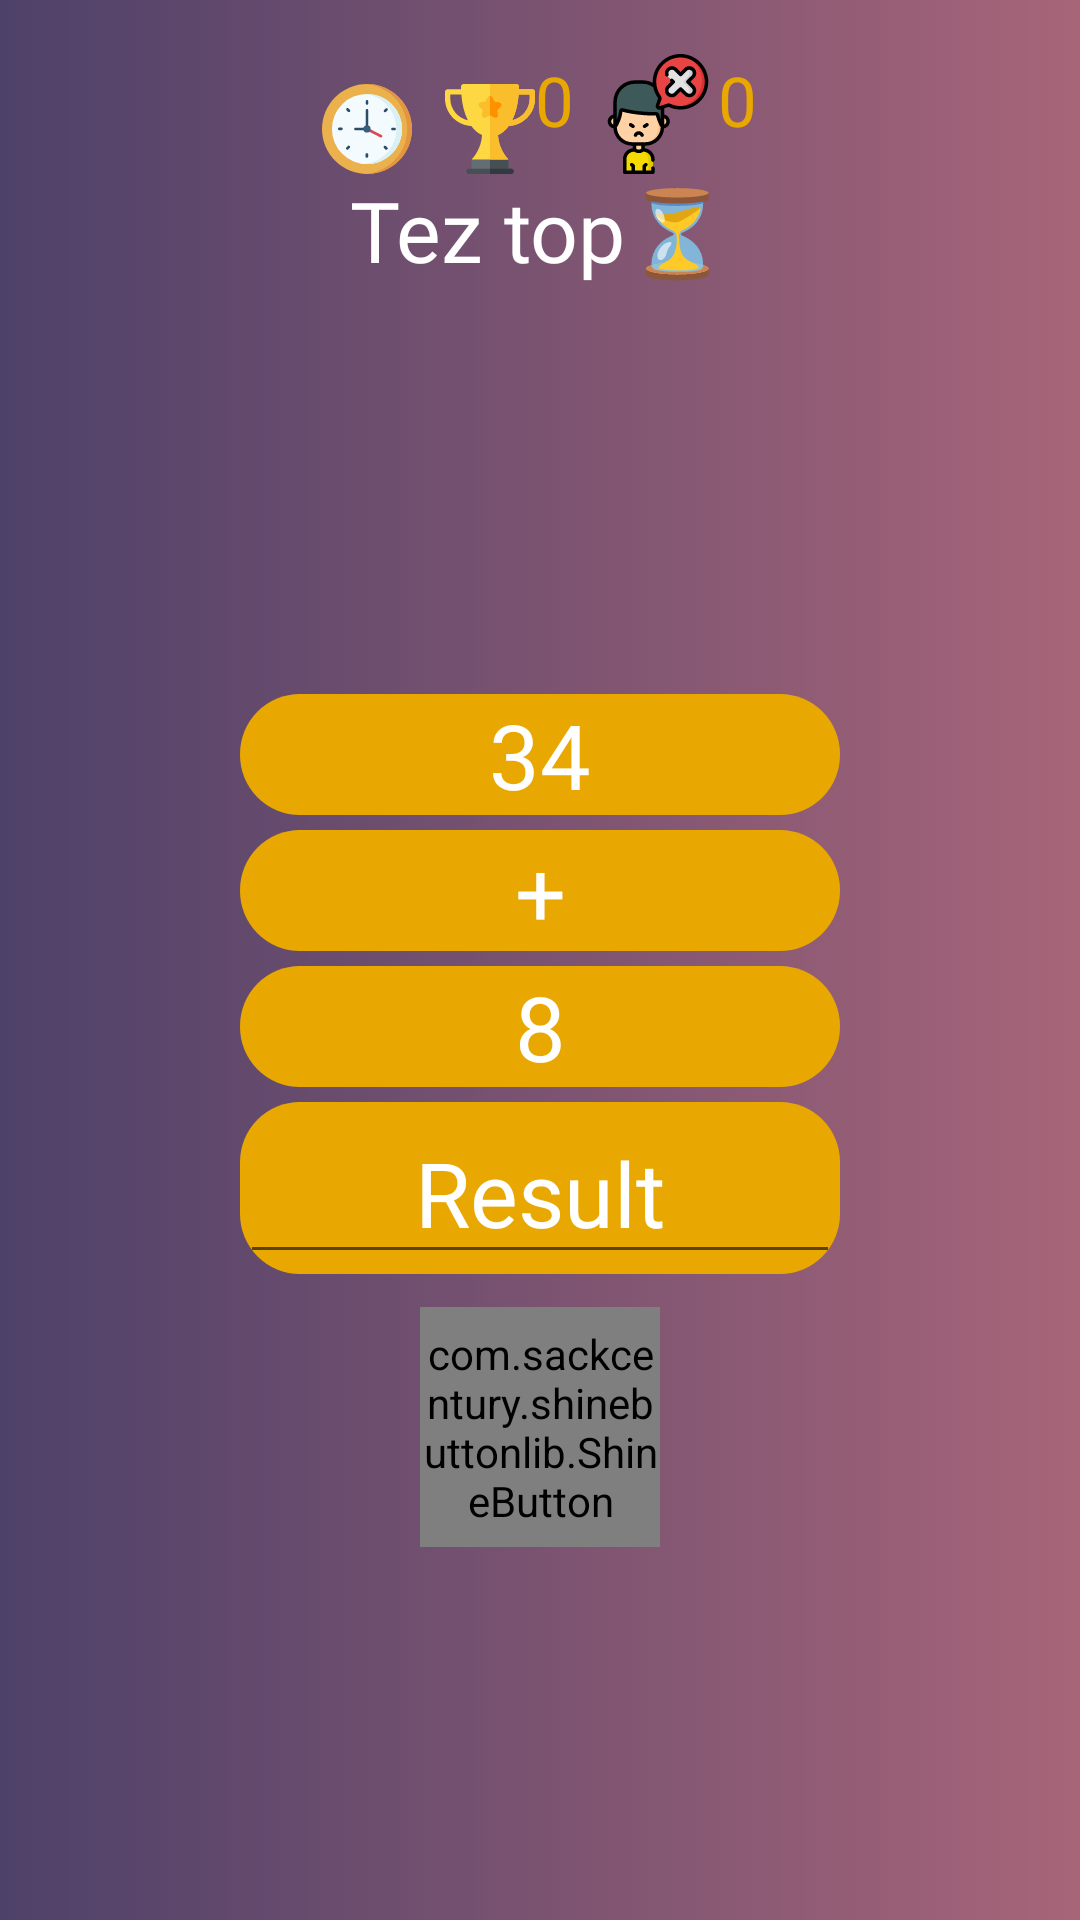

Screen size 1080*1920. Icon name, then its center in pixels as (x,y):
clock: (367,129)
dislike: (658,114)
trophy: (490,129)
